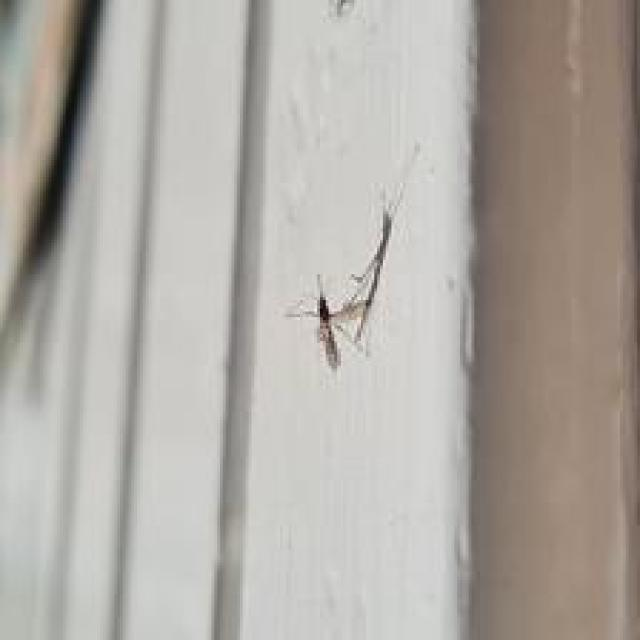Aedes albopictus: (284, 201, 399, 370)
